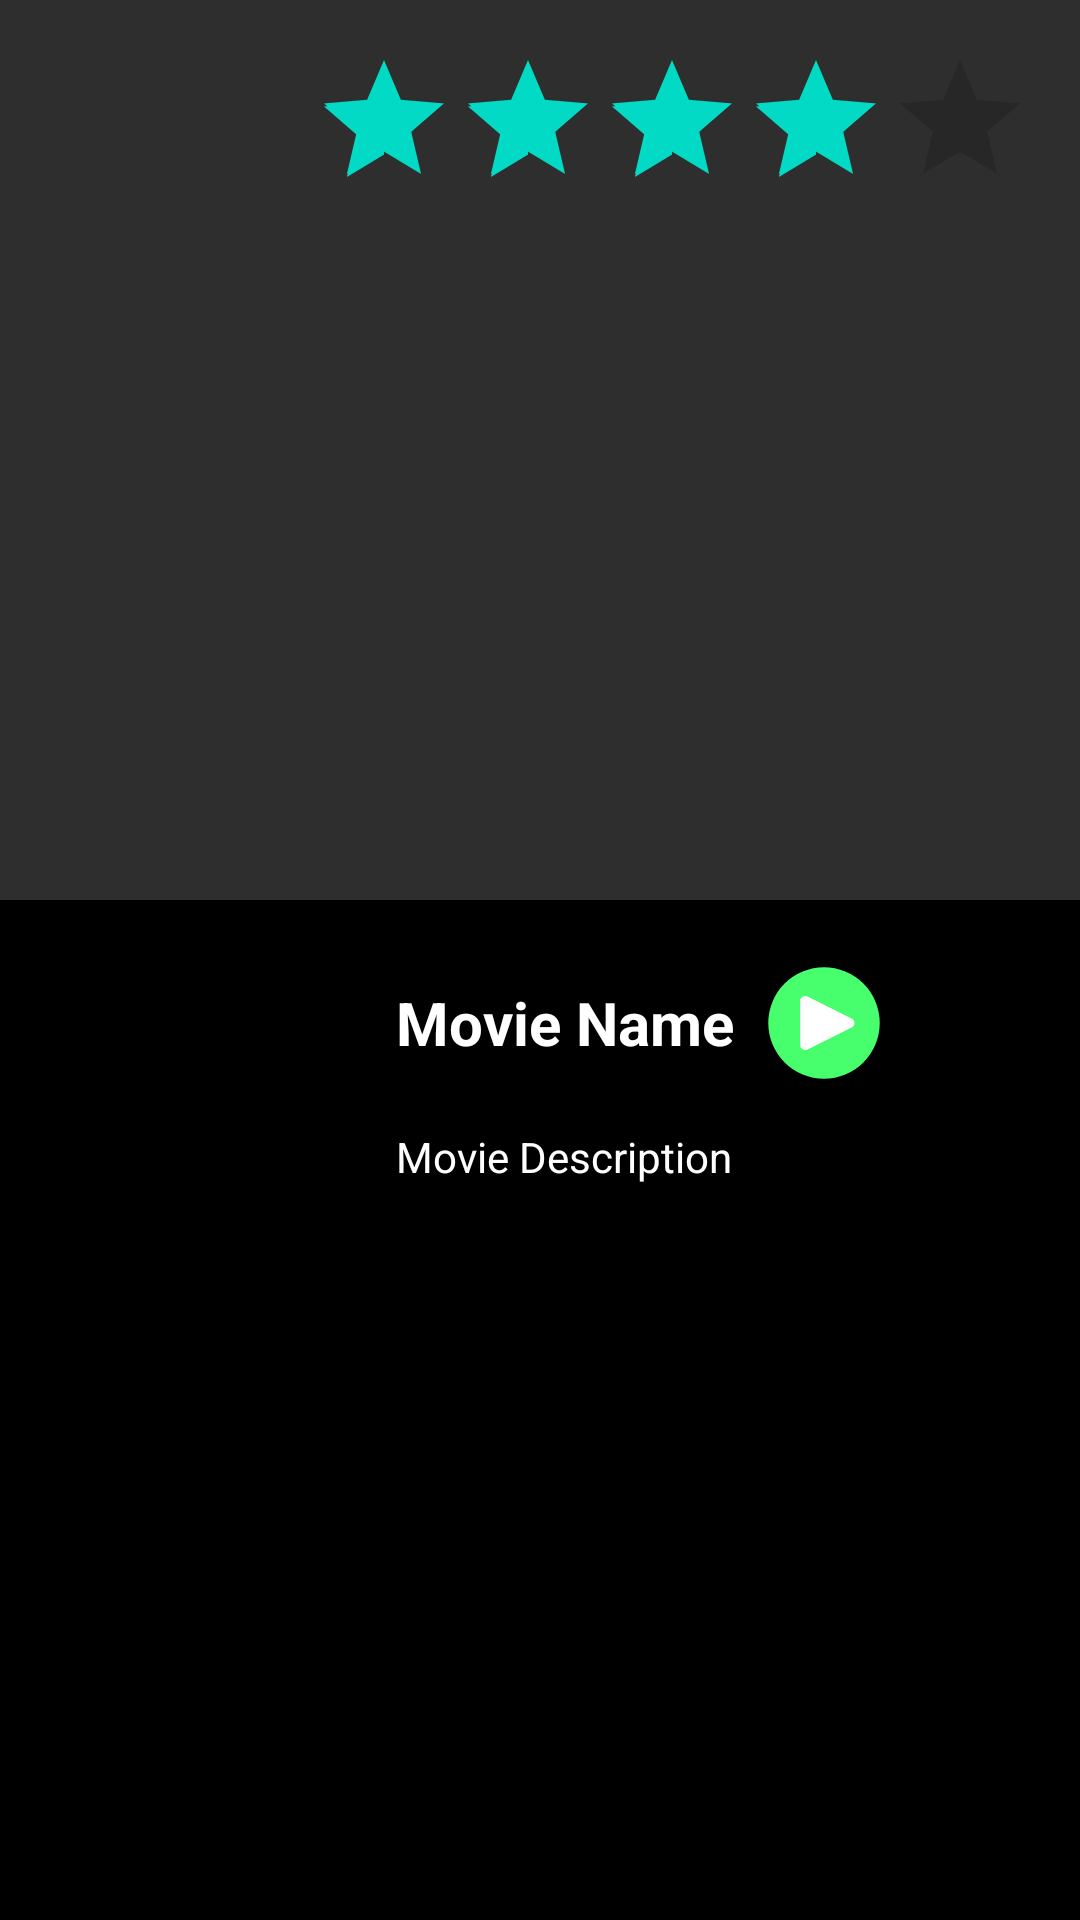

Named icons in this screenshot (1080px×1920px) and their bounding boxes, Rect(x1, y1, x2, y2):
play: Rect(768, 967, 880, 1079)
